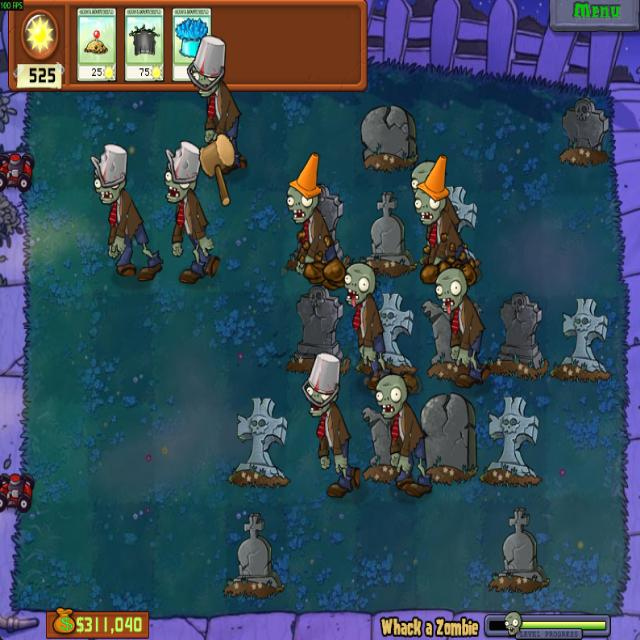buckethead: (186, 36, 227, 102), (302, 350, 342, 417)
conehead: (285, 152, 325, 224), (420, 158, 450, 224)
damaged_buckethead: (158, 141, 202, 207), (88, 142, 130, 207)
grave: (227, 398, 291, 489), (286, 289, 349, 378), (486, 292, 548, 382), (419, 390, 478, 484), (550, 295, 613, 383), (419, 296, 482, 383), (224, 512, 285, 600), (481, 396, 538, 487), (490, 506, 550, 592), (294, 182, 348, 276), (357, 291, 416, 376), (359, 190, 416, 274), (427, 186, 478, 274), (359, 403, 412, 486), (358, 101, 419, 171), (556, 97, 608, 167)
gravebuster: (124, 6, 164, 80)
zombie: (341, 264, 380, 306), (434, 267, 468, 312), (373, 374, 408, 417), (409, 160, 436, 193)
